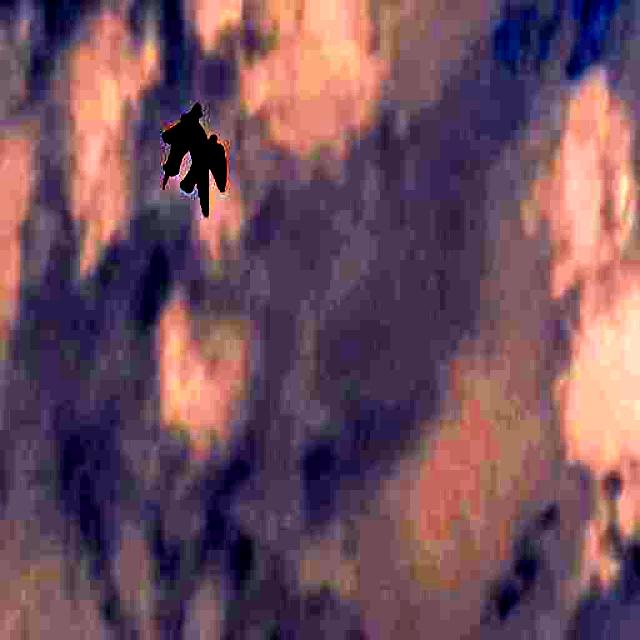airplane: (174, 114, 232, 249), (161, 70, 199, 182)
